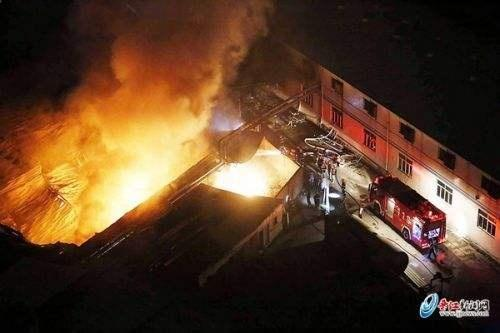fire: (93, 151, 175, 221), (205, 139, 275, 201)
